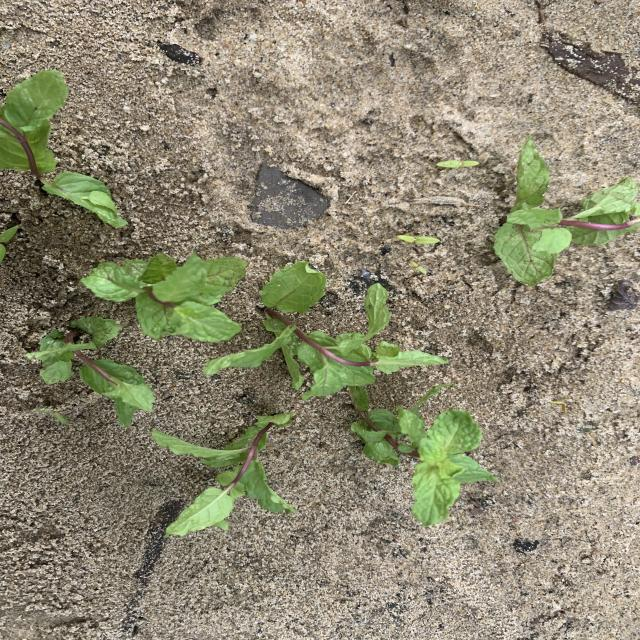crop: (204, 262, 448, 400), (494, 137, 640, 285), (351, 383, 497, 526), (0, 69, 127, 227), (152, 412, 296, 535), (81, 252, 248, 342), (26, 317, 154, 427)
weed: (0, 226, 17, 262), (396, 234, 440, 246), (436, 160, 479, 169), (410, 260, 428, 275)
